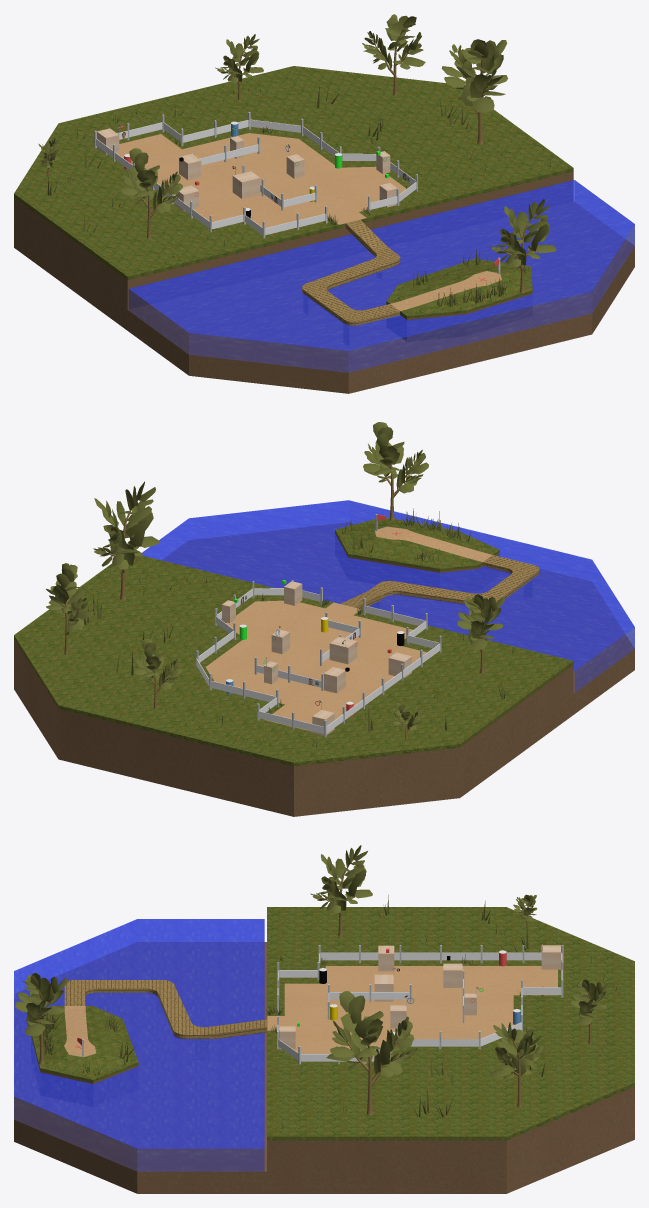
The model's file is map.dae.
3 views of the same model, one above another, from view 1: azimuth 30°, elevation 25°; view 2: azimuth 150°, elevation 25°; view 3: azimuth 270°, elevation 25° (orthographic). The views are drawn at different scales.
Parts seen in each view (by area): view 1: demo3; view 2: demo3; view 3: demo3.
Boxes of the visible parts, x1=… form: demo3: x1=14, y1=14, x2=634, y2=393; demo3: x1=14, y1=422, x2=634, y2=816; demo3: x1=14, y1=845, x2=634, y2=1193.
Bounding box in the file's own units: 16.91 × 19.32 × 5.98.
